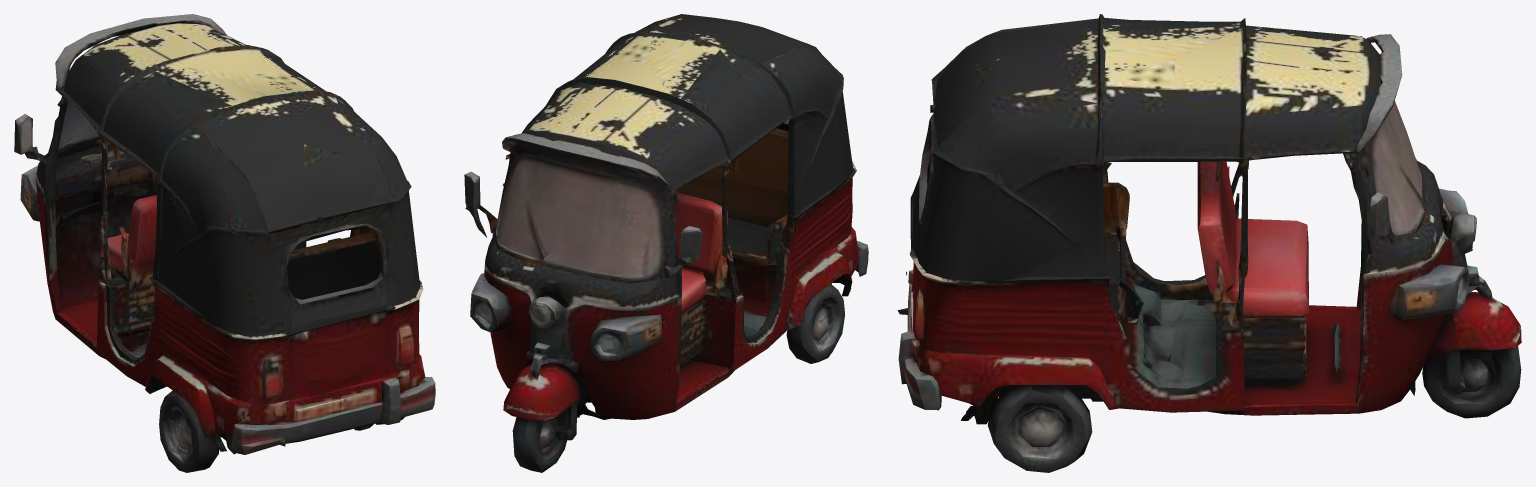
File: tuktuk.glb
3 views of the same model, side by side, from view 1: azimuth 30°, elevation 25°; view 2: azimuth 150°, elevation 25°; view 3: azimuth 270°, elevation 25° (orthographic). The views are drawn at different scales.
Visible parts, largest first — view 1: body, wheel_RL; view 2: body, wheel_RL, wheel_F; view 3: body, wheel_RR, wheel_F.
Boxes of the visible parts, x1,y1,x2,y2 form: body: (14, 14, 435, 454); wheel_RL: (159, 390, 218, 472); body: (464, 14, 868, 448); wheel_RL: (786, 284, 844, 361); wheel_F: (512, 413, 565, 472); body: (897, 14, 1521, 471); wheel_RR: (987, 385, 1092, 472); wheel_F: (1436, 350, 1521, 418).
Bounding box in the file's own units: 1.37 × 1.74 × 2.63.
Materials: 1 (1 with a texture image).
